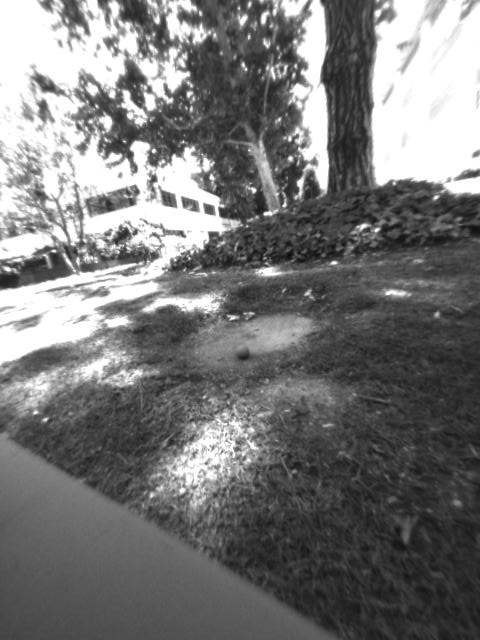dogtoy: (227, 337, 259, 364)
